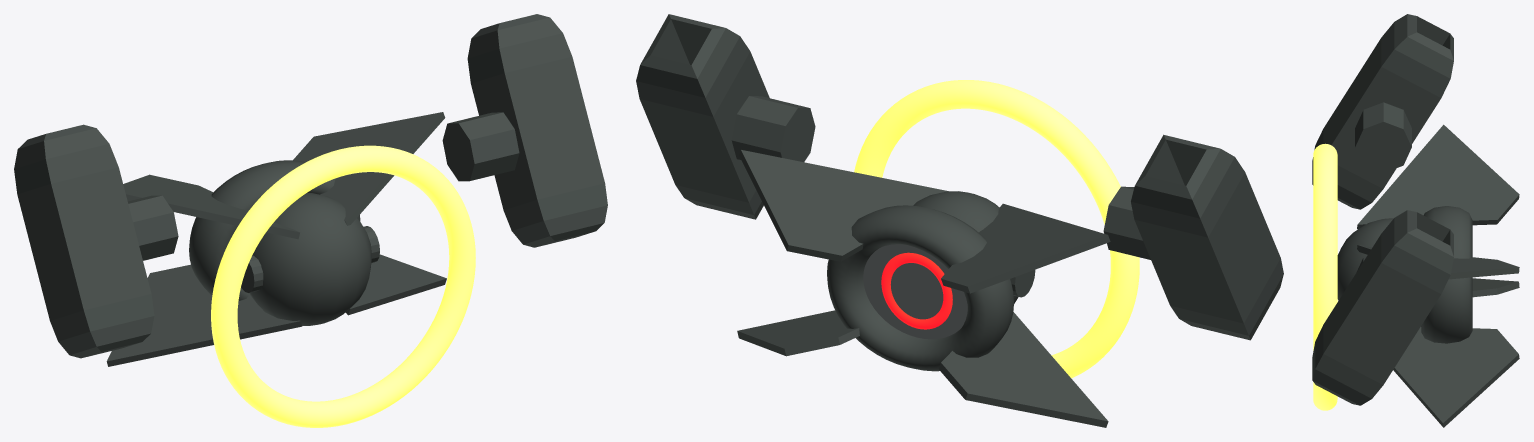
The model's file is plasmaCannon.fbx.
The picture shows the model from 3 angles, left to right: view 1: azimuth 30°, elevation 25°; view 2: azimuth 150°, elevation 25°; view 3: azimuth 270°, elevation 25°; orthographic projection. The views are drawn at different scales.
Visible parts, largest first — view 1: Launcher, Body, Plasma Core; view 2: Body, Launcher, Plasma Core; view 3: Launcher, Body, Plasma Core.
Part boxes in pixels (x1,y1,x2,y2): Launcher: (14, 14, 607, 358); Body: (106, 112, 446, 366); Plasma Core: (211, 145, 475, 427); Body: (737, 150, 1110, 427); Launcher: (636, 14, 1283, 340); Plasma Core: (854, 80, 1139, 378); Launcher: (1312, 14, 1453, 405); Body: (1337, 124, 1519, 427); Plasma Core: (1313, 143, 1337, 410).
Size of the model in its own units: 465 by 266 by 181.
